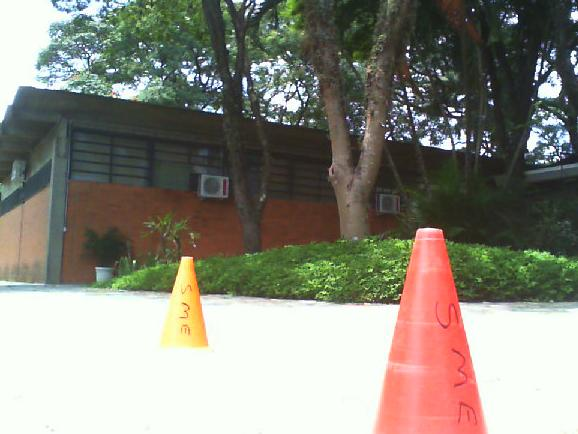0 cone: (367, 227, 490, 434), (158, 256, 208, 346)
